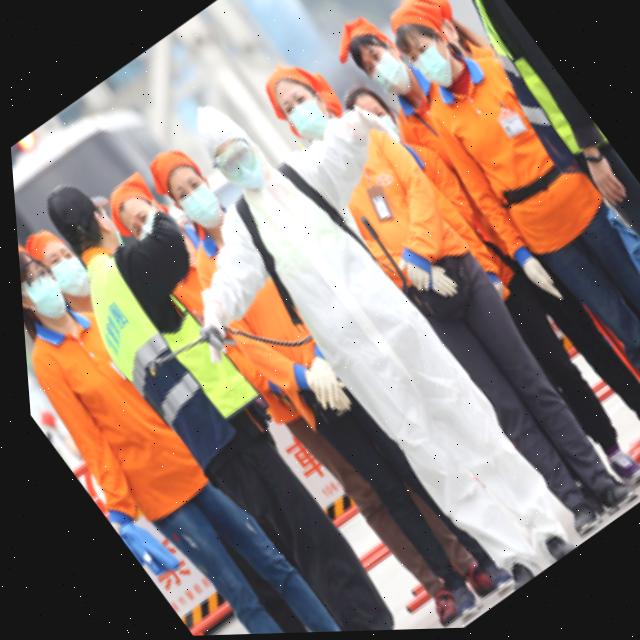Mask: (269, 91, 339, 156), (401, 32, 469, 96), (172, 178, 235, 237), (16, 269, 74, 328), (360, 49, 419, 107), (217, 148, 276, 202), (40, 252, 96, 305)
